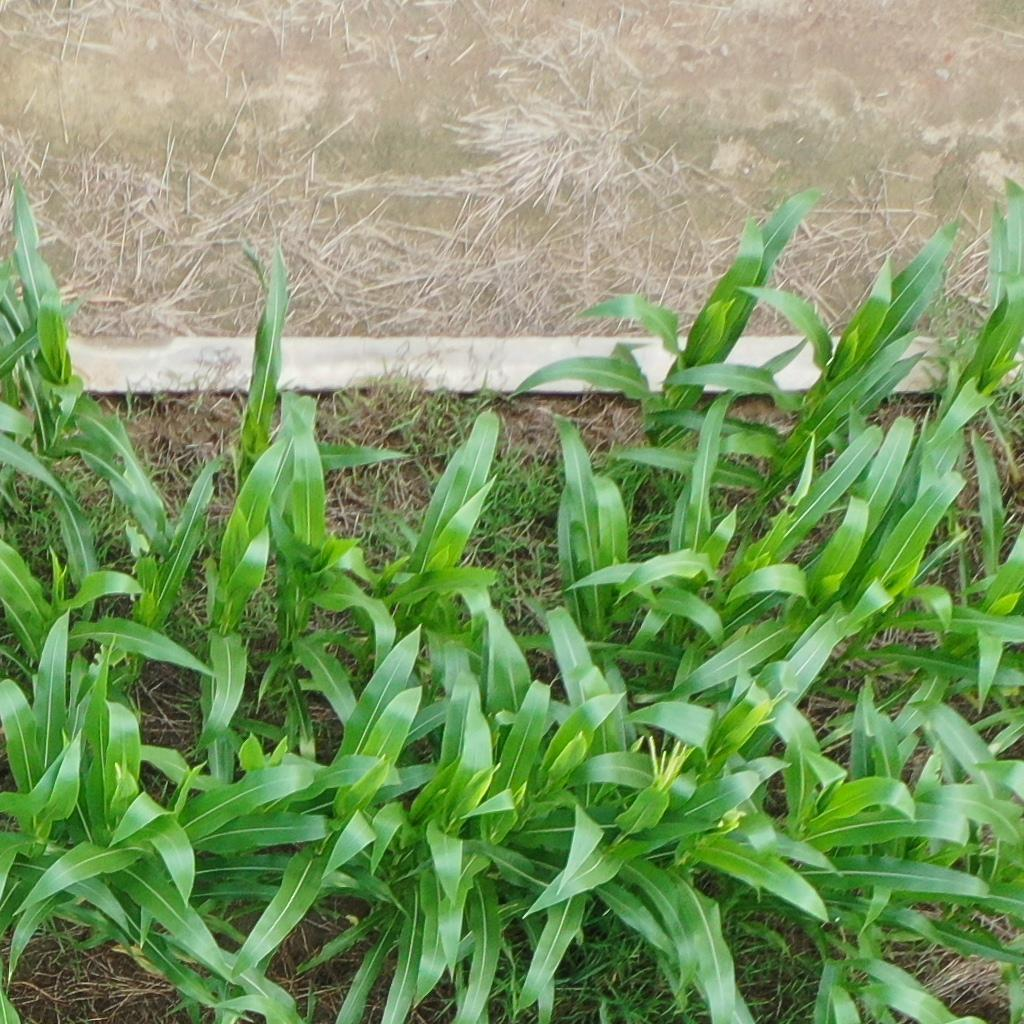Tassel: (640, 732, 684, 787), (760, 692, 790, 731)
